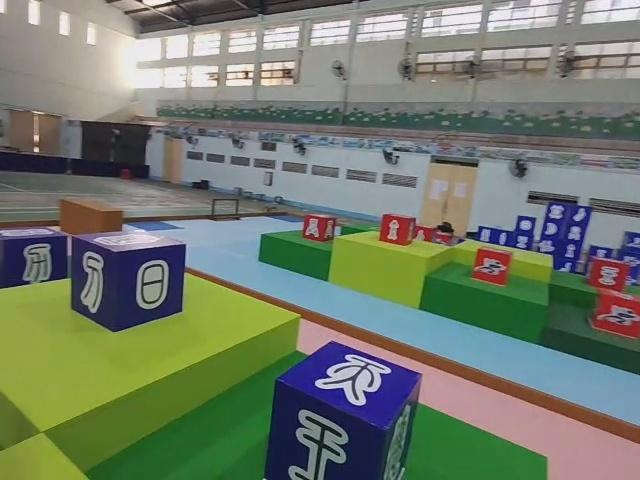R2 Fake Blue: (270, 344, 422, 480), (70, 232, 187, 333), (0, 229, 70, 293)
